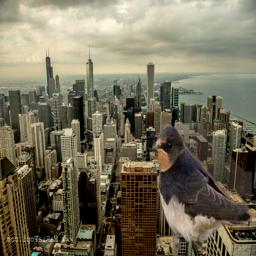Swallow: (152, 123, 252, 253)
